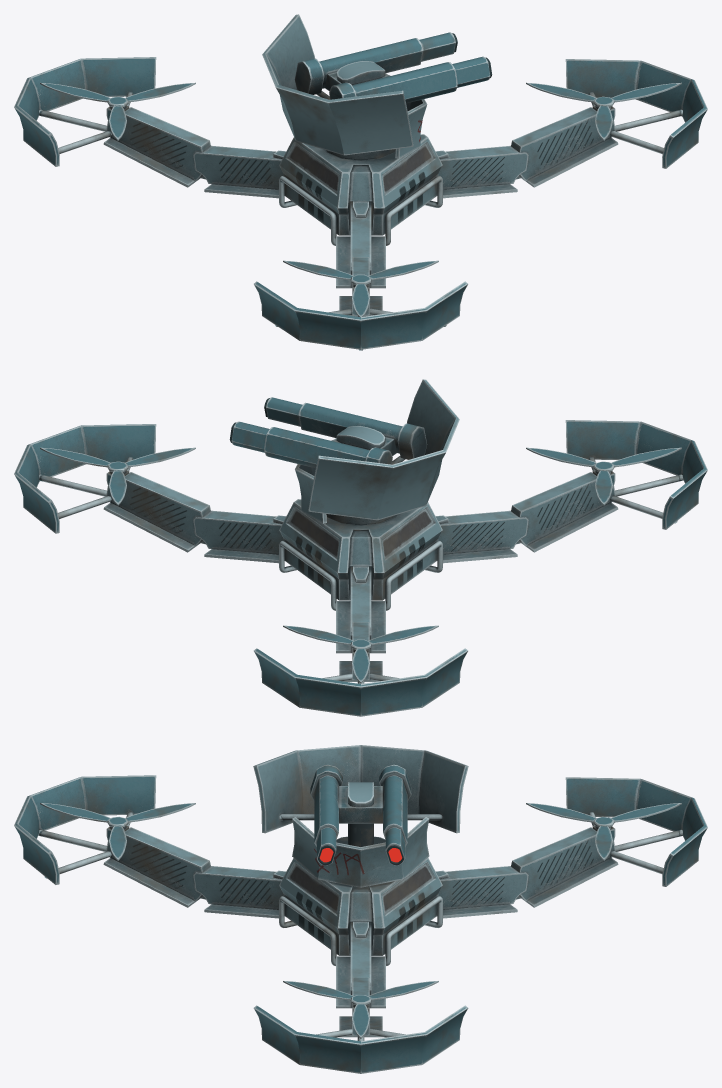
Rendered from drone.fbx.
3 views of the same model, one above another, from view 1: azimuth 30°, elevation 25°; view 2: azimuth 150°, elevation 25°; view 3: azimuth 270°, elevation 25° (orthographic).
Parts seen in each view (by area): view 1: base_lp, stand_lp; view 2: base_lp, stand_lp; view 3: base_lp, stand_lp.
Part boxes in pixels (x1,y1,x2,y2): base_lp: (14,57,707,350); stand_lp: (262,14,492,160); base_lp: (14,420,707,716); stand_lp: (229,379,459,525); base_lp: (14,775,707,1073); stand_lp: (253,745,468,887).
Size of the model in its own units: 58.81 by 17.5 by 64.99.
